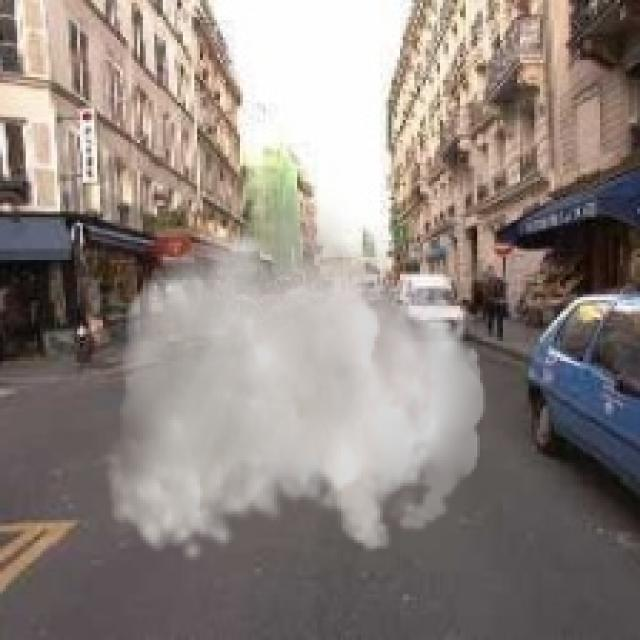Smoke: (106, 177, 486, 563)
